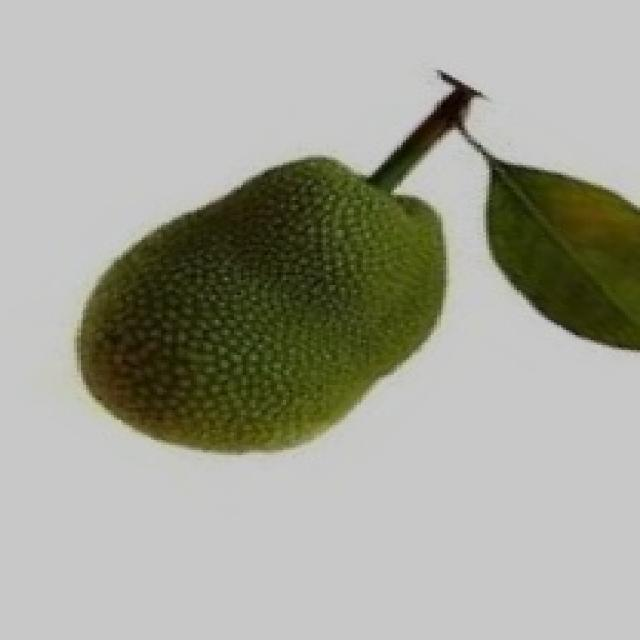Fruit: (56, 135, 464, 475)
